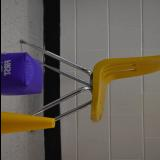cone: (0, 111, 54, 134)
cube: (0, 52, 43, 96)
